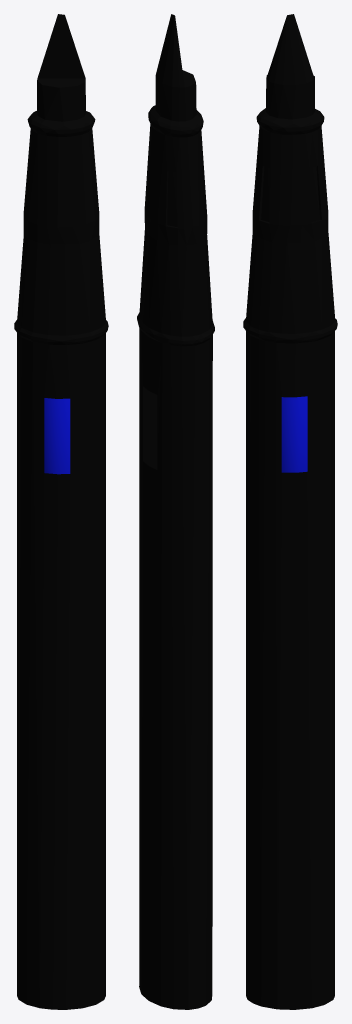
File: Füller.fbx
3 views of the same model, side by side, from view 1: azimuth 90°, elevation 25°; view 2: azimuth 210°, elevation 25°; view 3: azimuth 270°, elevation 25° (orthographic).
Parts seen in each view (by area): view 1: Fueller_LOD0; view 2: Fueller_LOD0; view 3: Fueller_LOD0.
Boxes of the visible parts, box(x1,y1,x2,y2) form: Fueller_LOD0: box(14, 14, 108, 1009); Fueller_LOD0: box(137, 14, 214, 1009); Fueller_LOD0: box(243, 14, 337, 1009).
Size of what is drawn, in the model's own units: 0.7794 by 11.62 by 1.01.
